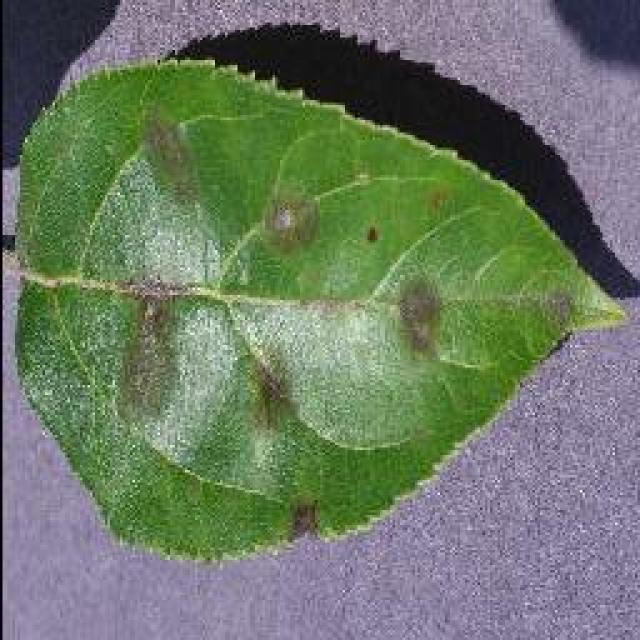apple scab disease: (10, 52, 628, 562)
